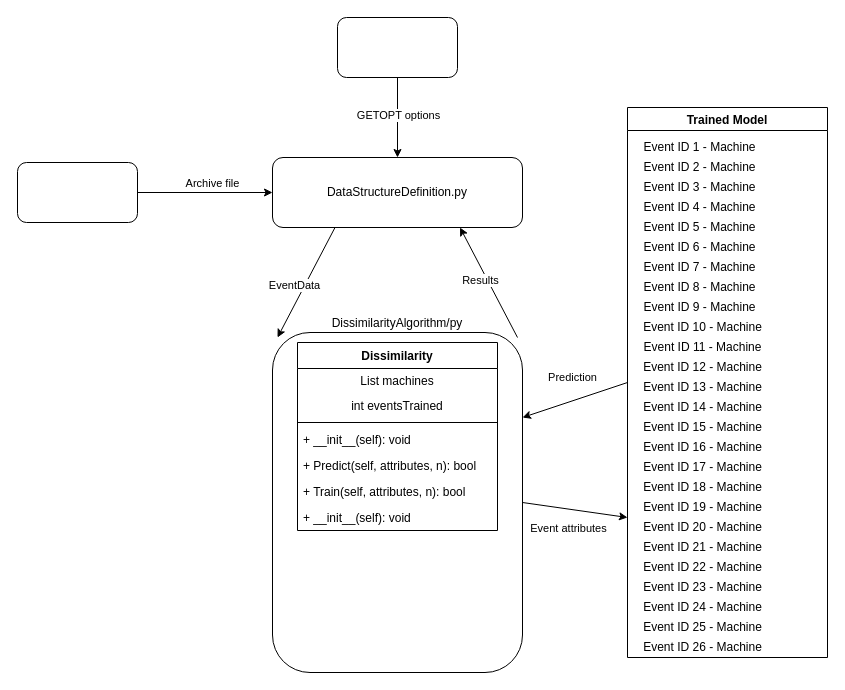
Some shapes in this 845 by 690 pixel diagram are drawn without their labels. The centre of each missing label's shape, as x and y in pixels:
RAD.py: point 397,47
Sysmon log: point 77,192
